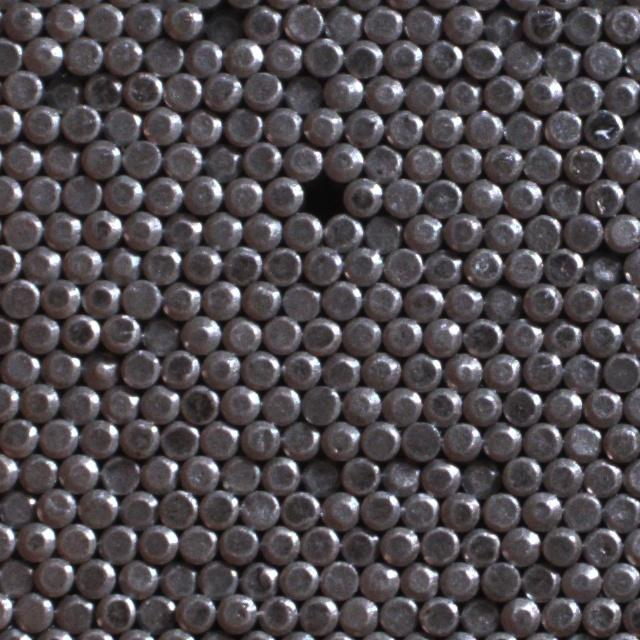tool: (481, 557, 522, 598), (218, 520, 258, 562), (342, 242, 382, 284), (323, 140, 363, 181), (400, 418, 440, 459), (284, 0, 324, 41), (442, 210, 482, 251), (258, 591, 298, 632), (142, 242, 182, 283), (137, 521, 177, 561), (542, 107, 582, 147), (540, 592, 580, 632), (301, 383, 341, 423), (162, 138, 202, 178), (242, 68, 282, 108), (562, 280, 602, 320), (378, 593, 418, 633), (242, 210, 282, 250), (24, 34, 64, 74), (419, 522, 459, 562), (503, 245, 543, 285), (541, 523, 581, 563), (378, 522, 418, 562), (220, 383, 260, 423), (102, 171, 142, 211), (582, 315, 622, 355), (34, 554, 74, 594), (122, 136, 162, 176), (79, 414, 119, 454), (158, 558, 198, 598), (402, 349, 442, 389), (522, 4, 562, 44), (343, 107, 383, 147), (304, 36, 344, 76), (122, 209, 162, 249), (42, 208, 82, 248), (74, 556, 114, 596), (219, 454, 259, 494), (522, 488, 562, 528), (502, 452, 542, 492), (299, 522, 339, 562), (281, 487, 321, 527), (524, 213, 564, 253), (80, 274, 120, 314), (96, 590, 136, 630), (18, 450, 58, 490), (102, 242, 142, 282), (118, 487, 158, 527), (321, 278, 361, 318), (122, 67, 162, 107), (160, 418, 200, 458), (180, 380, 220, 420), (40, 277, 80, 317), (441, 418, 480, 459), (500, 593, 539, 634), (439, 559, 478, 599), (565, 210, 604, 250), (56, 520, 96, 559), (178, 522, 217, 562), (279, 557, 318, 597), (382, 384, 422, 423), (263, 244, 302, 284), (159, 486, 198, 526), (3, 207, 43, 246), (463, 38, 502, 78), (82, 207, 121, 247), (338, 593, 377, 633), (563, 4, 602, 44), (264, 36, 303, 76), (582, 524, 621, 564), (61, 310, 100, 350), (481, 489, 521, 528), (223, 106, 262, 146), (182, 242, 221, 282), (483, 140, 522, 180), (240, 347, 280, 386), (464, 246, 503, 286), (563, 488, 602, 528), (240, 418, 279, 458), (564, 142, 603, 182), (384, 244, 423, 284), (362, 279, 401, 319), (403, 210, 442, 250), (97, 521, 136, 561), (582, 38, 622, 77), (61, 171, 100, 211), (200, 487, 239, 527), (139, 383, 179, 422), (461, 525, 500, 565), (1, 276, 40, 316), (361, 349, 401, 388), (64, 34, 103, 74), (359, 559, 398, 599), (481, 418, 520, 458), (523, 419, 563, 458), (202, 68, 241, 108), (240, 487, 279, 527), (581, 594, 620, 634), (200, 346, 239, 386), (484, 210, 523, 250), (58, 451, 98, 490), (22, 242, 61, 282), (441, 488, 480, 528), (177, 590, 216, 630), (502, 385, 542, 424), (324, 210, 363, 250), (341, 314, 380, 354), (223, 243, 262, 283), (280, 418, 319, 458), (298, 593, 337, 633), (423, 245, 462, 285), (398, 560, 438, 599), (463, 176, 502, 216), (320, 418, 359, 458), (422, 384, 462, 423), (144, 36, 184, 75), (522, 142, 562, 181), (601, 560, 640, 600), (159, 347, 199, 386), (423, 38, 462, 78), (61, 102, 100, 142), (198, 559, 237, 599), (136, 590, 176, 629), (302, 314, 341, 354), (120, 416, 159, 456), (13, 589, 52, 629), (242, 138, 281, 178), (182, 172, 221, 212), (321, 350, 361, 389), (302, 244, 341, 284), (263, 174, 302, 214), (423, 177, 462, 217), (119, 347, 159, 386), (319, 558, 358, 598), (522, 72, 562, 111), (342, 174, 381, 214), (217, 590, 256, 630), (54, 591, 94, 630), (460, 456, 499, 496), (99, 452, 138, 492), (143, 174, 183, 213), (542, 454, 581, 494), (420, 456, 460, 495), (542, 40, 581, 80), (340, 522, 379, 562), (237, 556, 277, 595), (543, 315, 582, 355), (42, 69, 82, 108), (346, 36, 385, 76), (419, 593, 457, 634), (39, 414, 77, 455), (16, 519, 54, 560), (261, 383, 300, 422), (360, 419, 399, 458), (463, 384, 502, 423), (302, 106, 341, 145), (403, 281, 442, 320), (363, 142, 402, 181), (104, 34, 143, 73), (583, 385, 622, 424), (60, 382, 99, 421), (283, 139, 322, 178), (100, 383, 139, 422), (424, 107, 463, 146), (443, 282, 482, 321), (342, 383, 381, 422), (361, 488, 400, 527), (161, 280, 200, 319), (583, 177, 622, 216), (41, 346, 80, 385), (382, 314, 421, 353), (502, 108, 541, 147), (203, 209, 242, 248), (2, 67, 41, 106), (20, 312, 59, 351), (84, 0, 123, 39), (224, 36, 263, 75), (281, 348, 320, 387), (442, 4, 481, 43), (181, 313, 220, 352), (0, 345, 39, 384), (102, 105, 141, 144), (324, 71, 363, 110), (463, 315, 502, 354), (523, 349, 562, 388), (459, 596, 498, 635), (422, 315, 461, 354), (339, 454, 378, 493), (501, 523, 540, 562), (522, 282, 561, 321), (260, 453, 299, 492), (180, 451, 219, 490), (321, 488, 360, 527), (383, 174, 422, 213), (381, 454, 420, 493), (503, 177, 542, 216), (83, 69, 122, 108), (143, 105, 182, 144), (241, 3, 280, 42), (139, 452, 178, 491), (281, 280, 320, 319), (522, 561, 561, 600), (20, 380, 59, 419), (141, 315, 180, 354), (284, 208, 322, 248), (404, 141, 442, 181), (184, 106, 222, 146), (102, 310, 140, 350), (78, 486, 118, 524), (402, 4, 440, 44), (503, 316, 541, 356), (260, 522, 298, 562), (384, 37, 422, 77), (200, 418, 238, 458), (202, 278, 240, 318), (443, 141, 481, 181), (163, 1, 201, 41), (0, 415, 38, 455), (562, 558, 600, 598), (162, 210, 202, 248), (222, 314, 260, 354), (224, 173, 262, 213), (122, 276, 160, 316), (118, 556, 156, 596), (563, 419, 601, 458), (62, 242, 100, 281), (36, 486, 75, 524), (364, 3, 402, 42), (385, 107, 423, 146), (543, 385, 581, 424), (263, 313, 301, 352), (203, 140, 241, 179), (543, 179, 581, 218), (163, 69, 201, 108), (241, 279, 279, 318), (82, 137, 120, 176), (185, 36, 223, 75), (583, 456, 622, 494), (325, 4, 363, 43), (23, 172, 61, 211), (124, 0, 162, 39), (22, 103, 60, 142), (562, 351, 600, 390), (401, 490, 439, 529), (41, 138, 79, 177), (483, 349, 521, 388), (445, 350, 484, 388), (363, 212, 402, 250), (482, 72, 521, 110), (300, 455, 338, 494), (44, 0, 82, 39), (563, 74, 602, 112), (481, 6, 520, 44), (585, 110, 624, 148), (543, 249, 582, 287), (603, 421, 640, 461), (603, 349, 640, 389), (603, 72, 640, 112), (464, 107, 502, 145), (263, 105, 301, 143), (482, 283, 520, 321), (503, 38, 541, 76), (2, 139, 40, 177), (365, 73, 403, 111), (404, 74, 442, 112), (283, 74, 321, 112), (202, 7, 240, 45), (302, 173, 340, 211), (603, 281, 640, 320), (603, 490, 640, 529), (603, 3, 640, 42), (3, 0, 42, 37), (443, 75, 481, 112), (584, 248, 622, 285), (604, 211, 640, 250), (81, 351, 118, 388), (0, 486, 35, 525), (605, 142, 640, 180), (0, 556, 33, 595), (0, 34, 22, 73), (0, 239, 21, 279), (0, 172, 21, 212), (0, 102, 21, 142), (0, 312, 19, 352), (0, 378, 19, 418), (0, 448, 18, 488), (622, 314, 640, 354), (623, 592, 640, 634), (622, 247, 640, 286), (622, 456, 640, 494), (623, 384, 640, 424), (623, 177, 640, 216), (623, 524, 640, 562), (623, 40, 640, 78), (623, 108, 640, 146), (0, 518, 16, 558)
